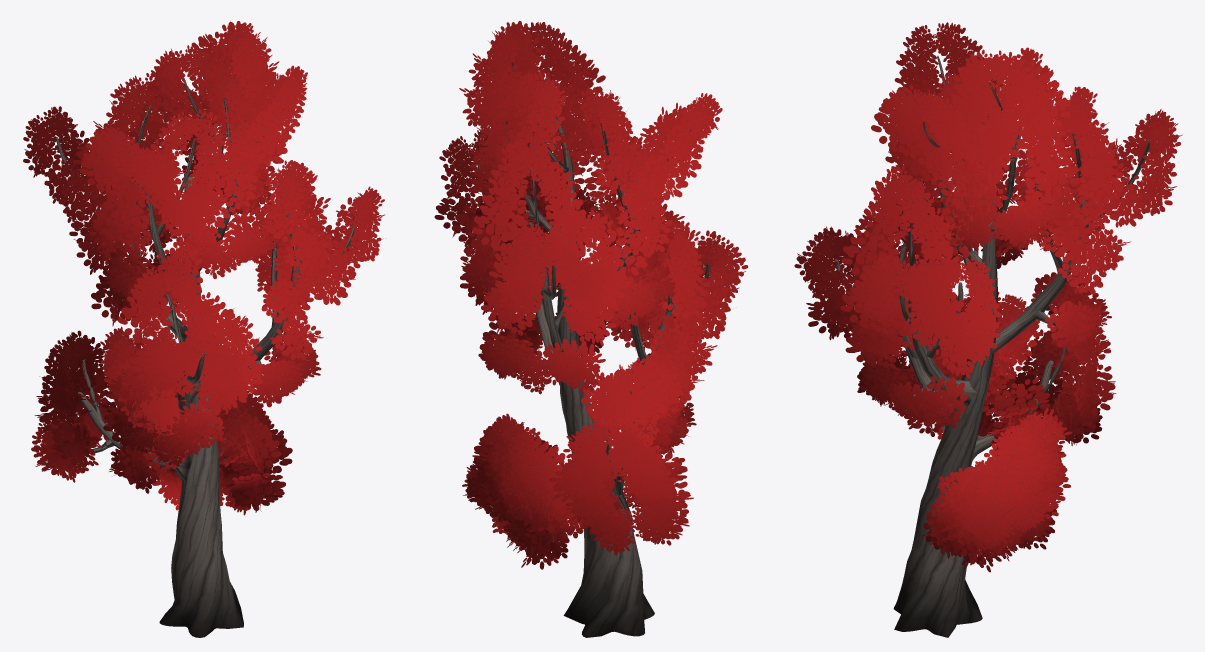
Rendered from twisted-tree-4.glb.
3 renders of one model, left to right at view 1: azimuth 30°, elevation 25°; view 2: azimuth 150°, elevation 25°; view 3: azimuth 270°, elevation 25°, orthographic. The views are drawn at different scales.
Visible parts, largest first — view 1: TwistedTree_4; view 2: TwistedTree_4; view 3: TwistedTree_4.
Boxes of the visible parts, <box> form: TwistedTree_4: <box>23,21,384,637</box>; TwistedTree_4: <box>434,21,748,637</box>; TwistedTree_4: <box>794,22,1182,637</box>.
Bounding box in the file's own units: 10.38 × 18.74 × 11.29.
Materials: 2 (2 with a texture image).
